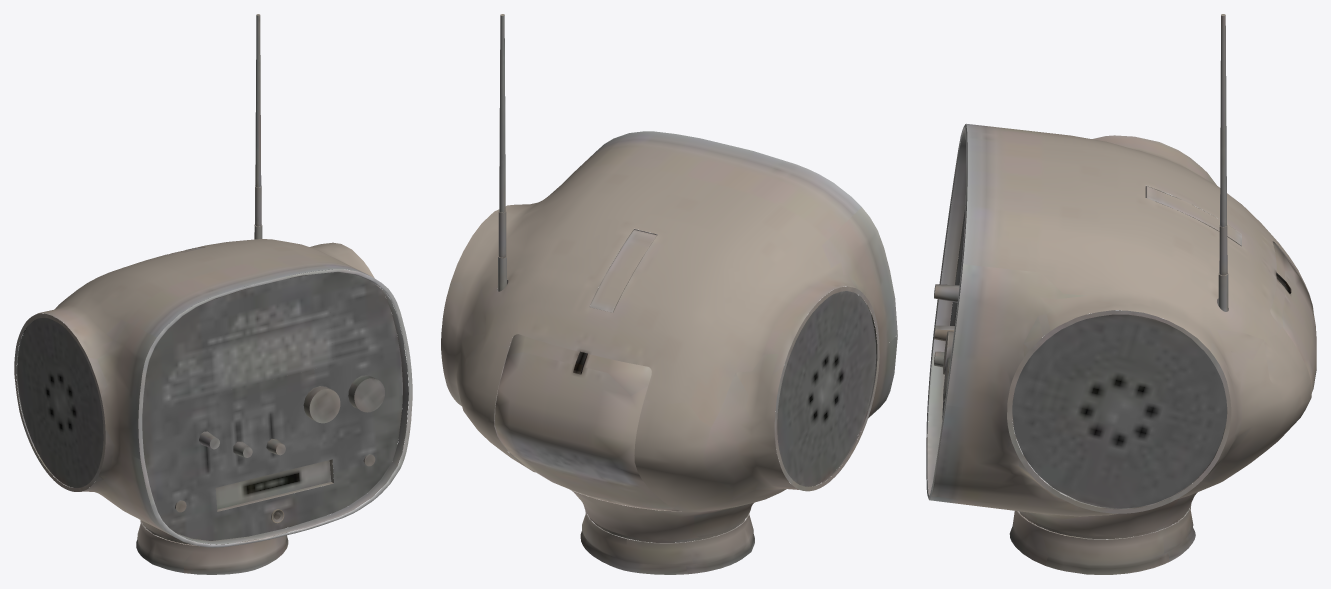
Rendered from radio.glb.
3 views of the same model, side by side, from view 1: azimuth 30°, elevation 25°; view 2: azimuth 150°, elevation 25°; view 3: azimuth 270°, elevation 25° (orthographic). The views are drawn at different scales.
Parts seen in each view (by area): view 1: low; view 2: low; view 3: low.
Part boxes in pixels (<box>): low: <box>14,14,412,574</box>; low: <box>441,14,897,574</box>; low: <box>926,14,1316,574</box>.
Size of the model in its own units: 0.2923 by 0.45 by 0.276.
Materials: 1 (1 with a texture image).
